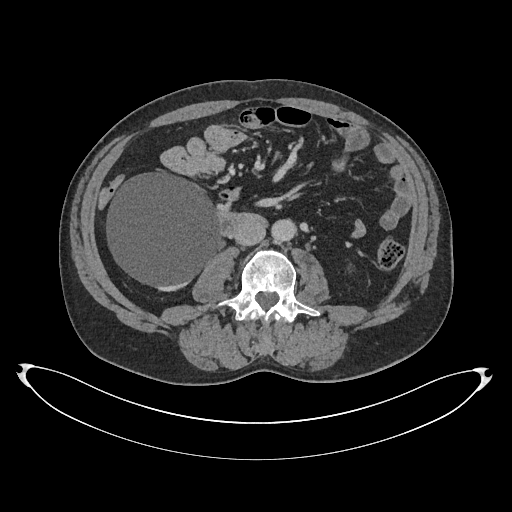Lesion: (106, 175, 222, 288)
